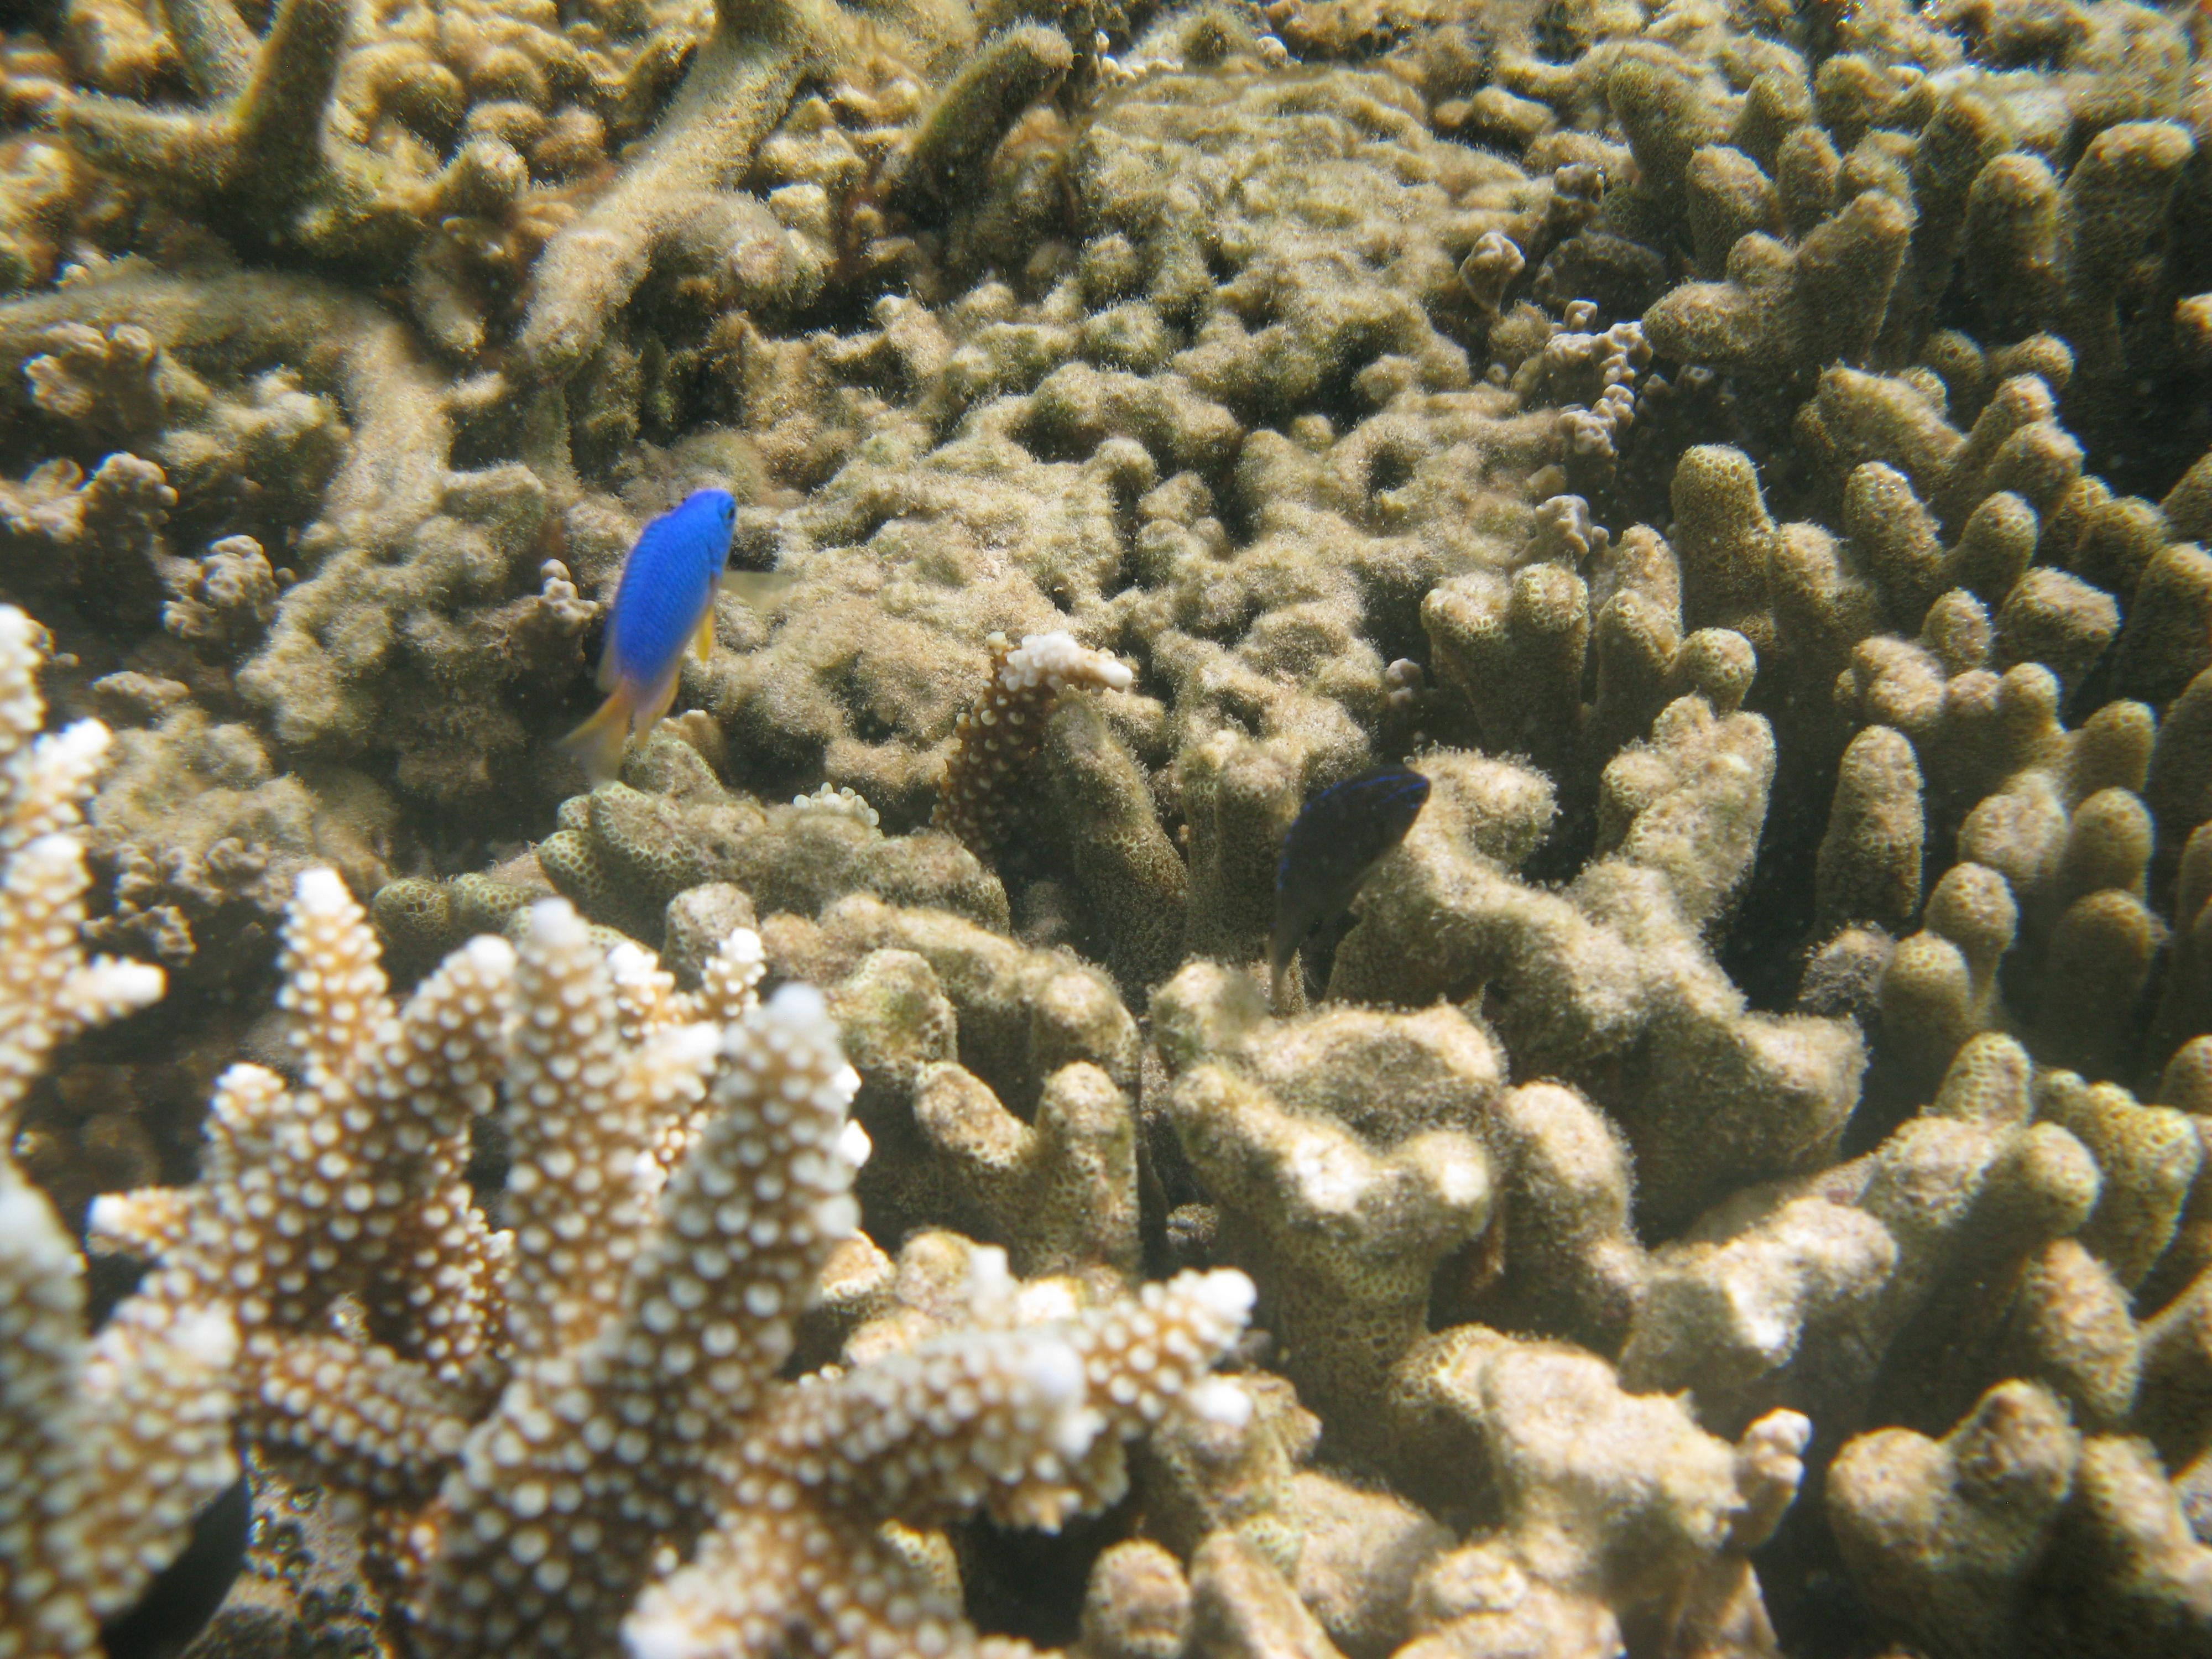Fish: (531, 439, 779, 800)
